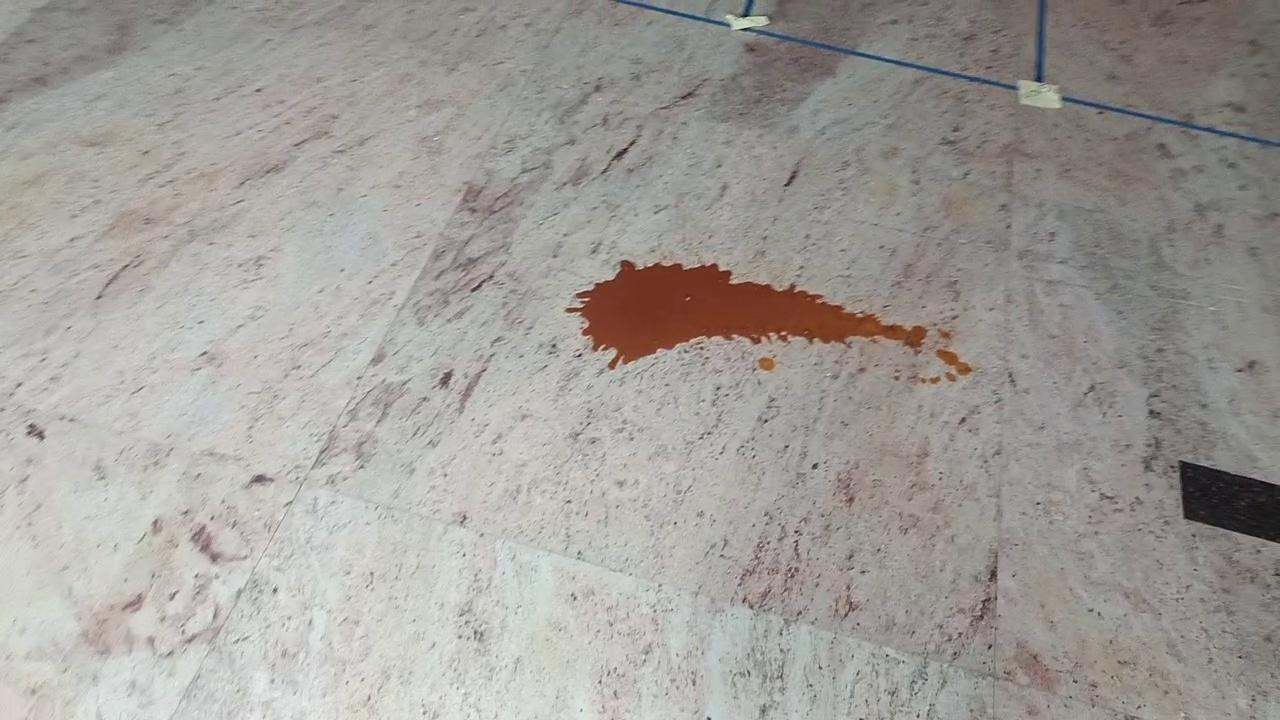dirty_floor: (568, 260, 980, 391)
